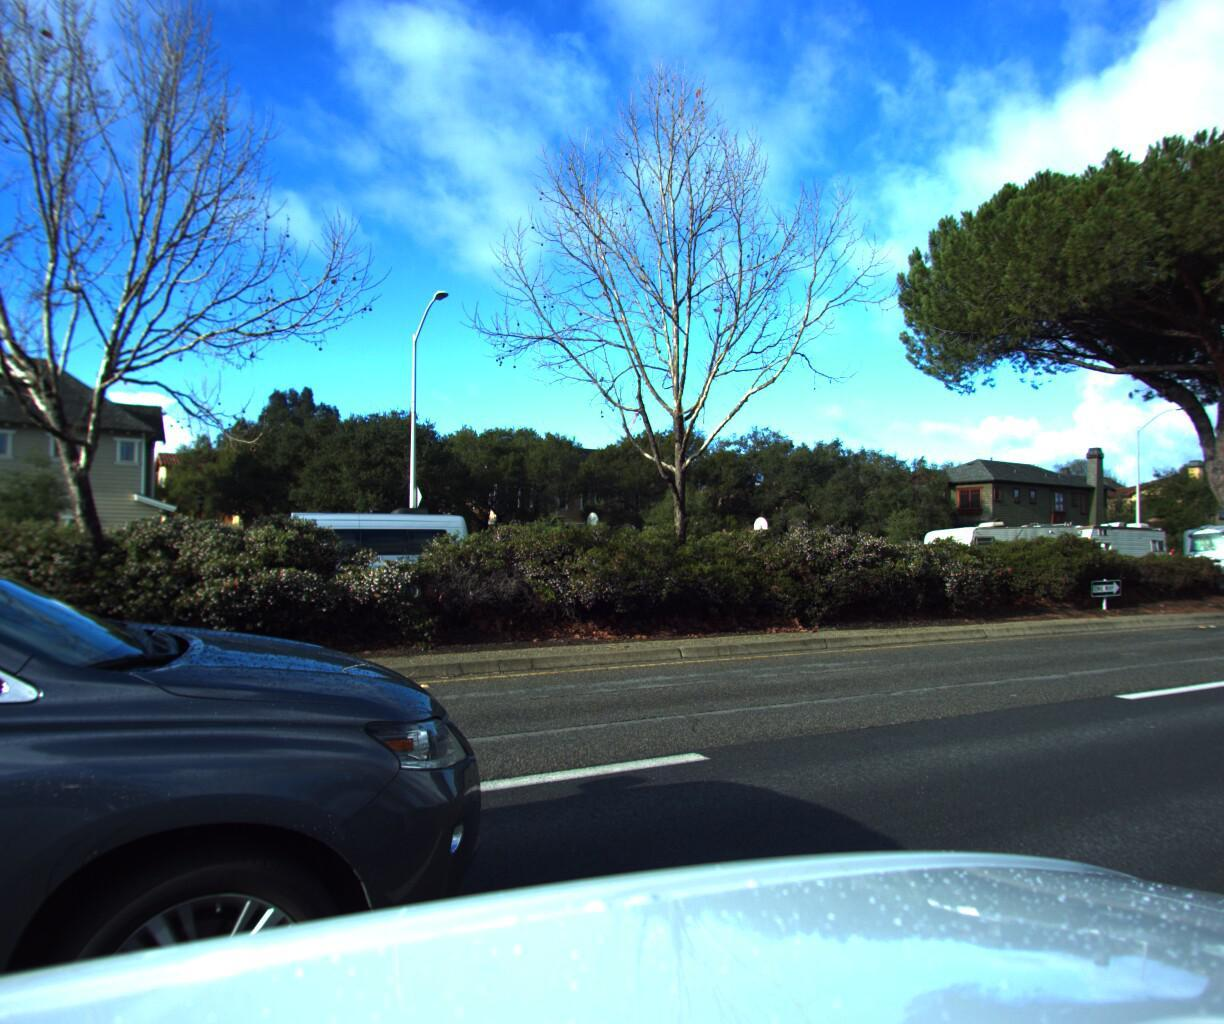car: (196, 499, 483, 614)
other_vehicle: (903, 511, 1086, 584), (1033, 513, 1183, 579), (1171, 514, 1224, 576)
